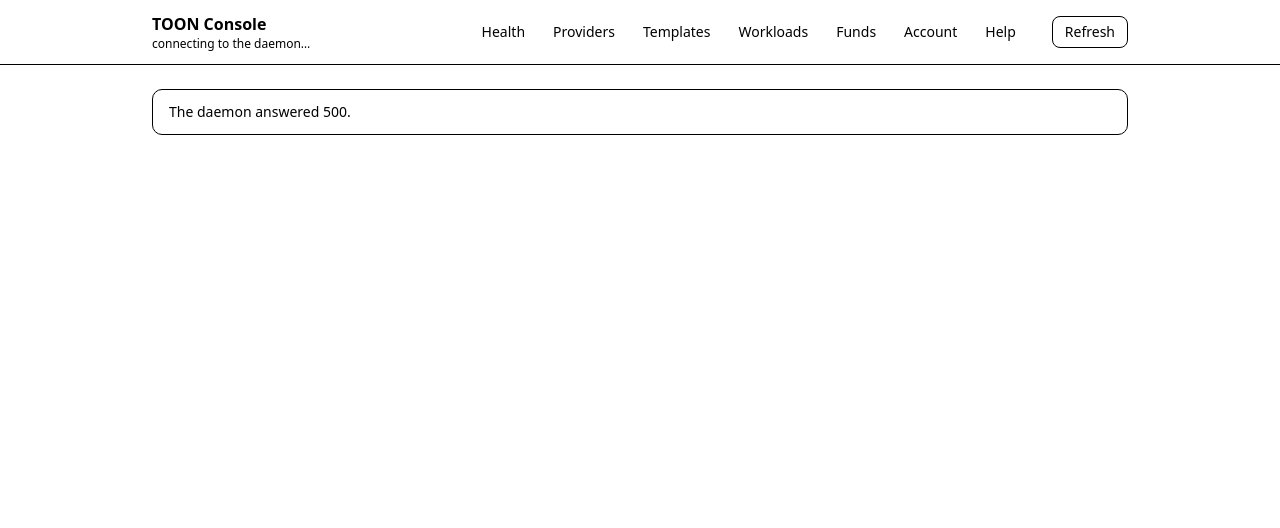
it: signing in with a Nostr signer › generates a key and shows the account’s name and avatar
Step 1. Click the button "Account" → (931,32), box [892,16,969,48]
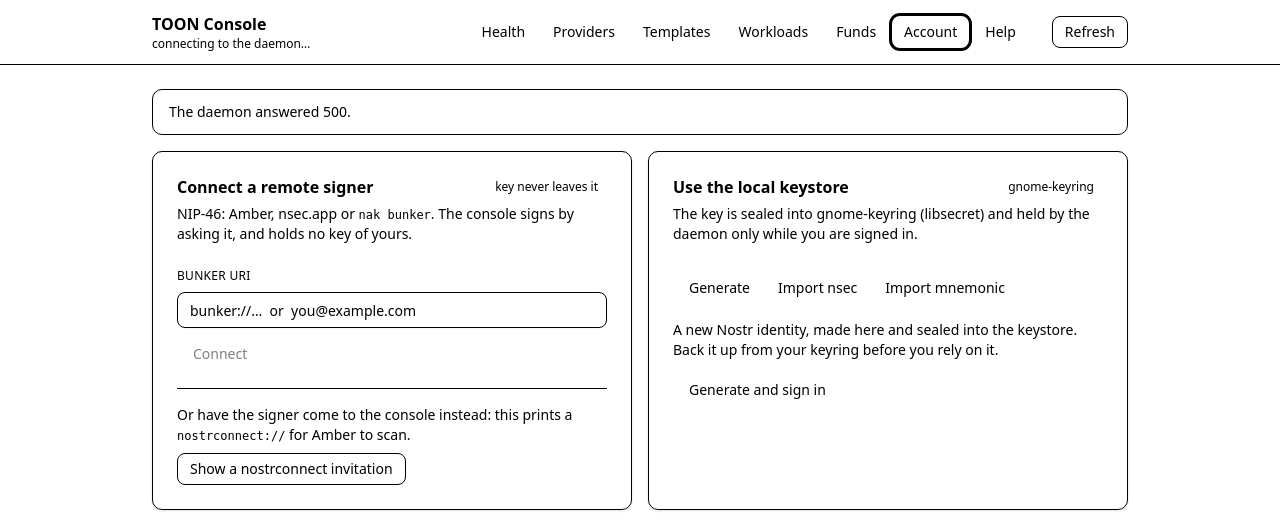
Step 2. Click the button "Generate and sign in" → (757,390), box [673,372,842,408]
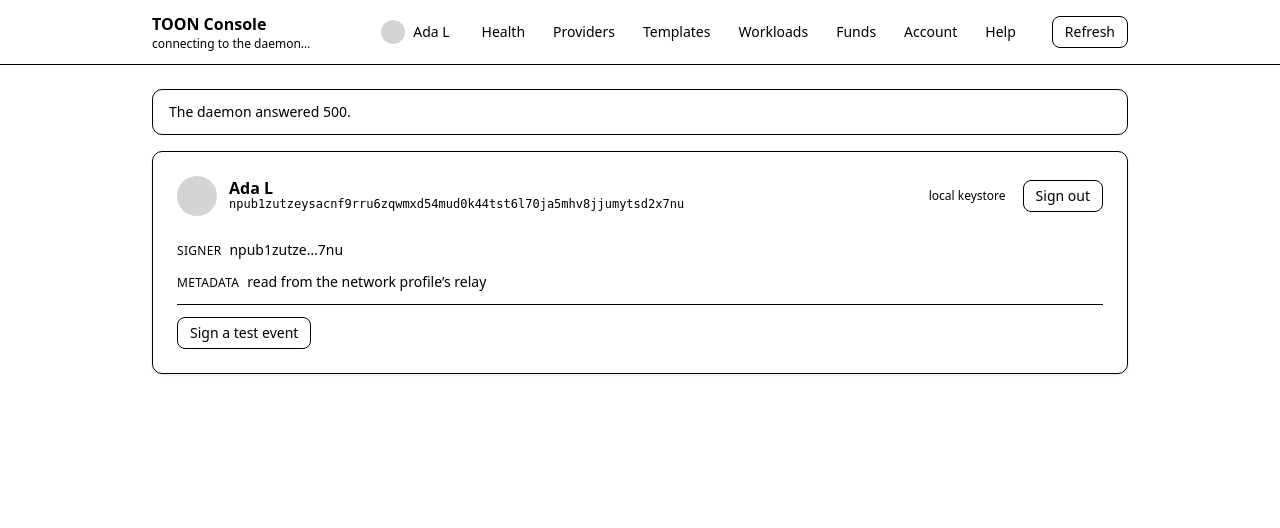
Expected: the text "Ada L" next to "connecting to the daemon…" is shown, [413,22,450,41]
Expected: the text "npub1zutzeysacnf9rru6zqwmxd54mud0k44tst6l70ja5mhv8jjumytsd2x7nu" is shown, [229,196,684,212]
